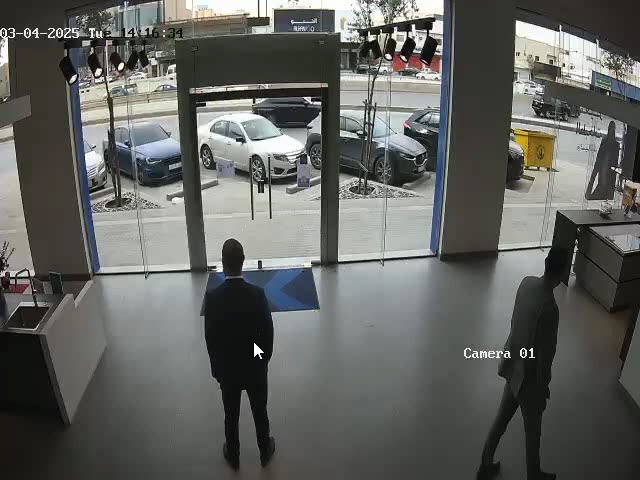employee: (200, 238, 276, 470)
male: (489, 250, 574, 476)
